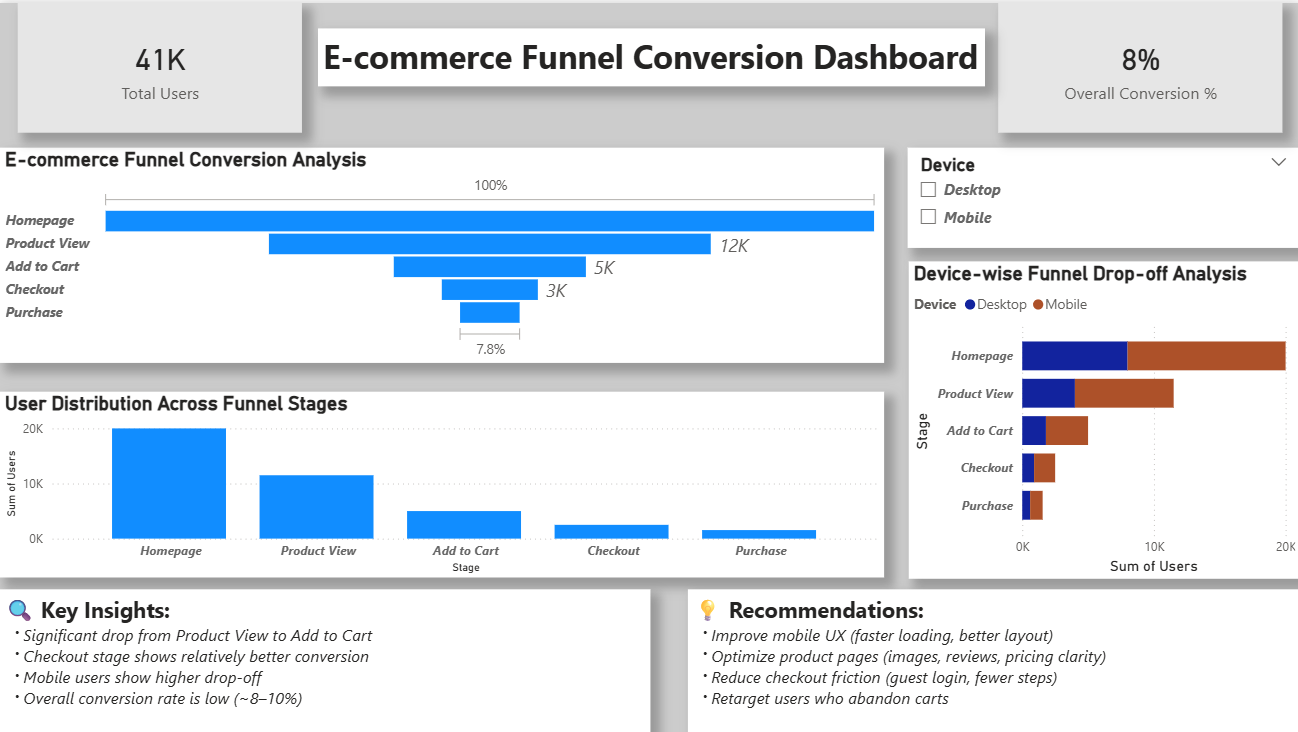

This screenshot's page, from the dashboard's own definition file:
{"tool":"powerbi","page":{"name":"Page 1","canvas":[1280,720],"ordinal":0},"visuals":[{"type":"funnel","title":"E-commerce Funnel Conversion Analysis","fields":{"Category":["Sheet1.Stage"],"Y":["Sum(Sheet1.Users)"]},"box":[0,142,870,212],"z":0},{"type":"slicer","fields":{"Values":["Sheet1.Device"]},"box":[894,142,386,99],"z":1000},{"type":"card","fields":{"Values":["Sheet1.Total Users"]},"box":[17,0,280,128],"z":2000},{"type":"card","fields":{"Values":["Sheet1.Overall Conversion %"]},"box":[983,0,280,128],"z":3000},{"type":"barChart","title":"Device-wise Funnel Drop-off Analysis","fields":{"Series":["Sheet1.Device"],"Category":["Sheet1.Stage"],"Y":["Sum(Sheet1.Users)"]},"box":[894.4,254.4,385.6,312.2],"z":4000},{"type":"clusteredColumnChart","title":"User Distribution Across Funnel Stages","fields":{"Category":["Sheet1.Stage"],"Y":["Sum(Sheet1.Users)"]},"box":[0,383,870,183],"z":5000},{"type":"textbox","box":[0,577.2,640.2,142.4],"z":6000},{"type":"textbox","box":[677.2,577.2,603.3,142.4],"z":7000},{"type":"textbox","box":[313,25,657,57],"z":8000}]}

Visuals, with their boxes in screenshot pixels (x1, y1, x2, y2), scaled from the page's 1280x720 canvas onto the 1298x732 screenshot:
"E-commerce Funnel Conversion Analysis" funnel: {"x1": 0, "y1": 144, "x2": 882, "y2": 360}
slicer - Sheet1.Device: {"x1": 907, "y1": 144, "x2": 1297, "y2": 245}
card - Sheet1.Total Users: {"x1": 17, "y1": 0, "x2": 301, "y2": 130}
card - Sheet1.Overall Conversion %: {"x1": 997, "y1": 0, "x2": 1281, "y2": 130}
"Device-wise Funnel Drop-off Analysis" barChart: {"x1": 907, "y1": 259, "x2": 1297, "y2": 576}
"User Distribution Across Funnel Stages" clusteredColumnChart: {"x1": 0, "y1": 389, "x2": 882, "y2": 575}
textbox: {"x1": 0, "y1": 587, "x2": 649, "y2": 731}
textbox: {"x1": 687, "y1": 587, "x2": 1297, "y2": 731}
textbox: {"x1": 317, "y1": 25, "x2": 984, "y2": 83}
